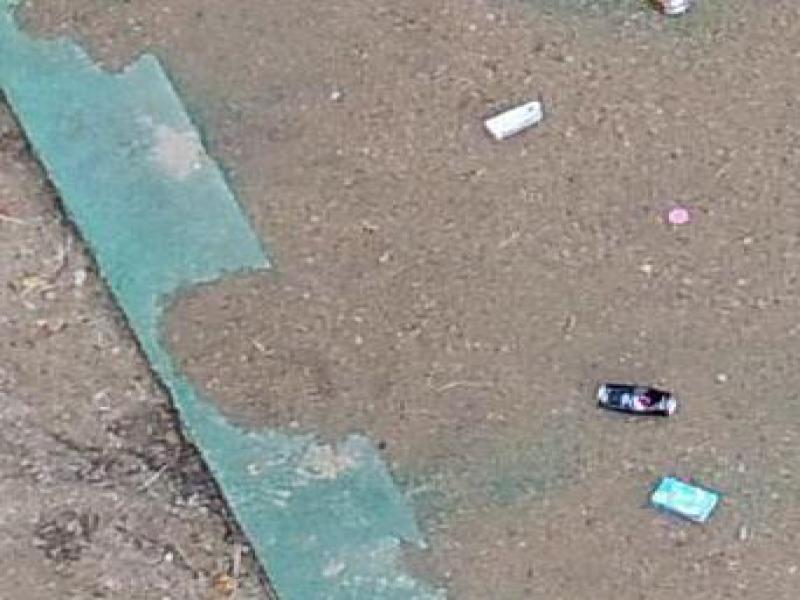bottle: (645, 471, 729, 528), (586, 376, 685, 424), (478, 93, 556, 147)
